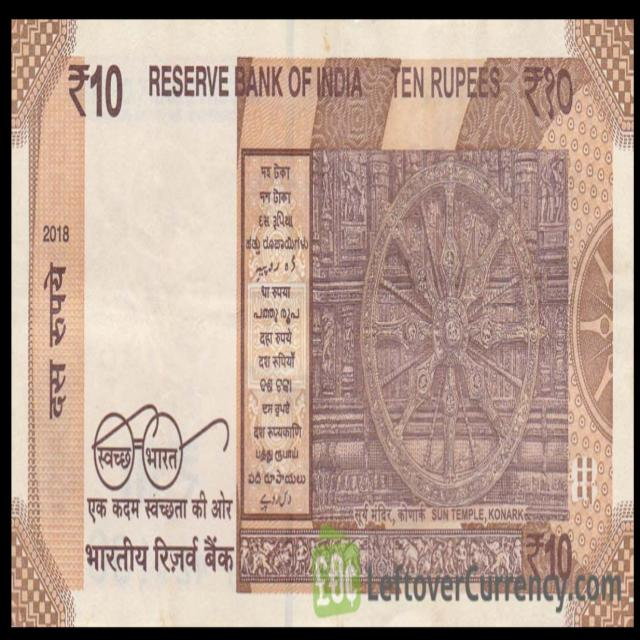10IndianRupees: (12, 22, 632, 628), (236, 20, 640, 570), (12, 25, 373, 621)
